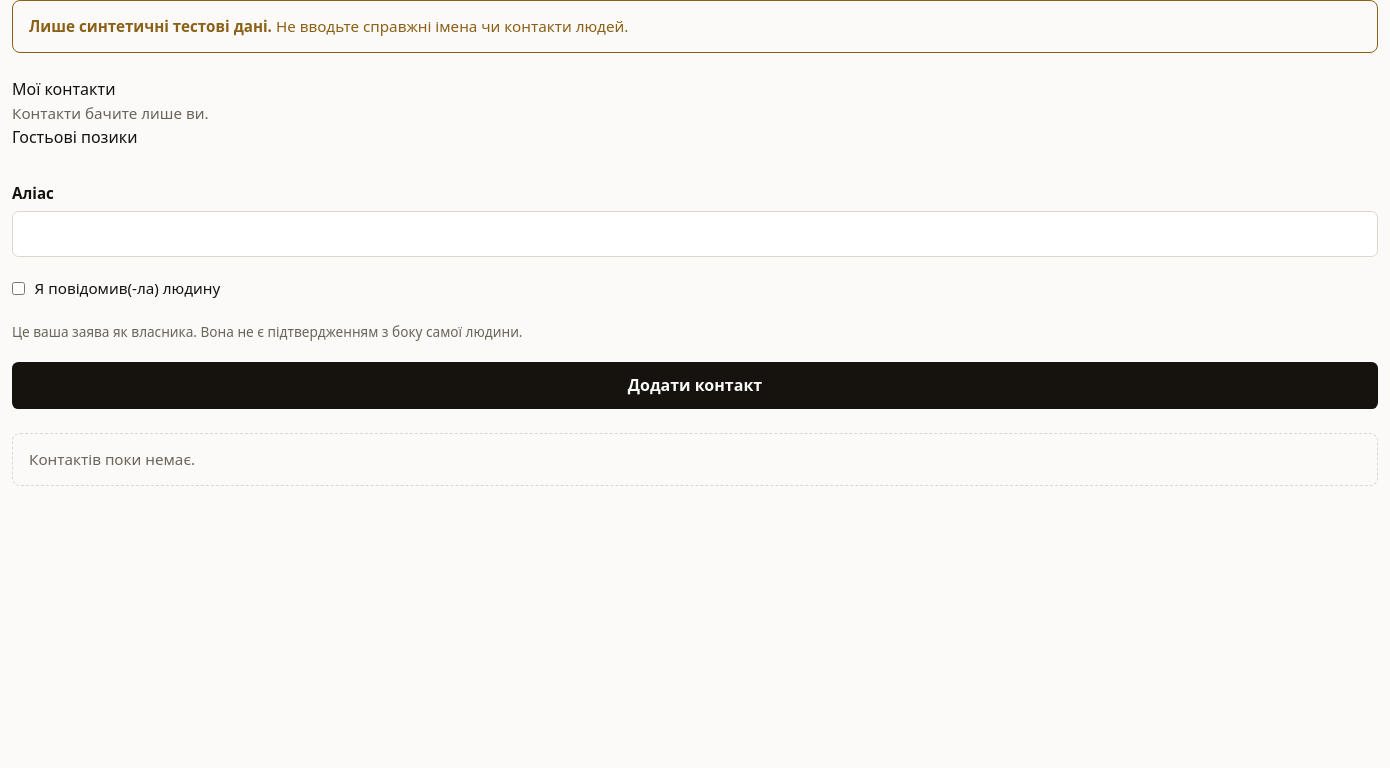
Scenario: ContactsScreen › shows a server error on create and keeps the form
Check: the text "Контактів поки немає." is shown, box [12,433,1378,486]
Type "Гість" into the field labelled "Аліас".
click(695, 234); type("Гість")  # box [12,211,1378,257]
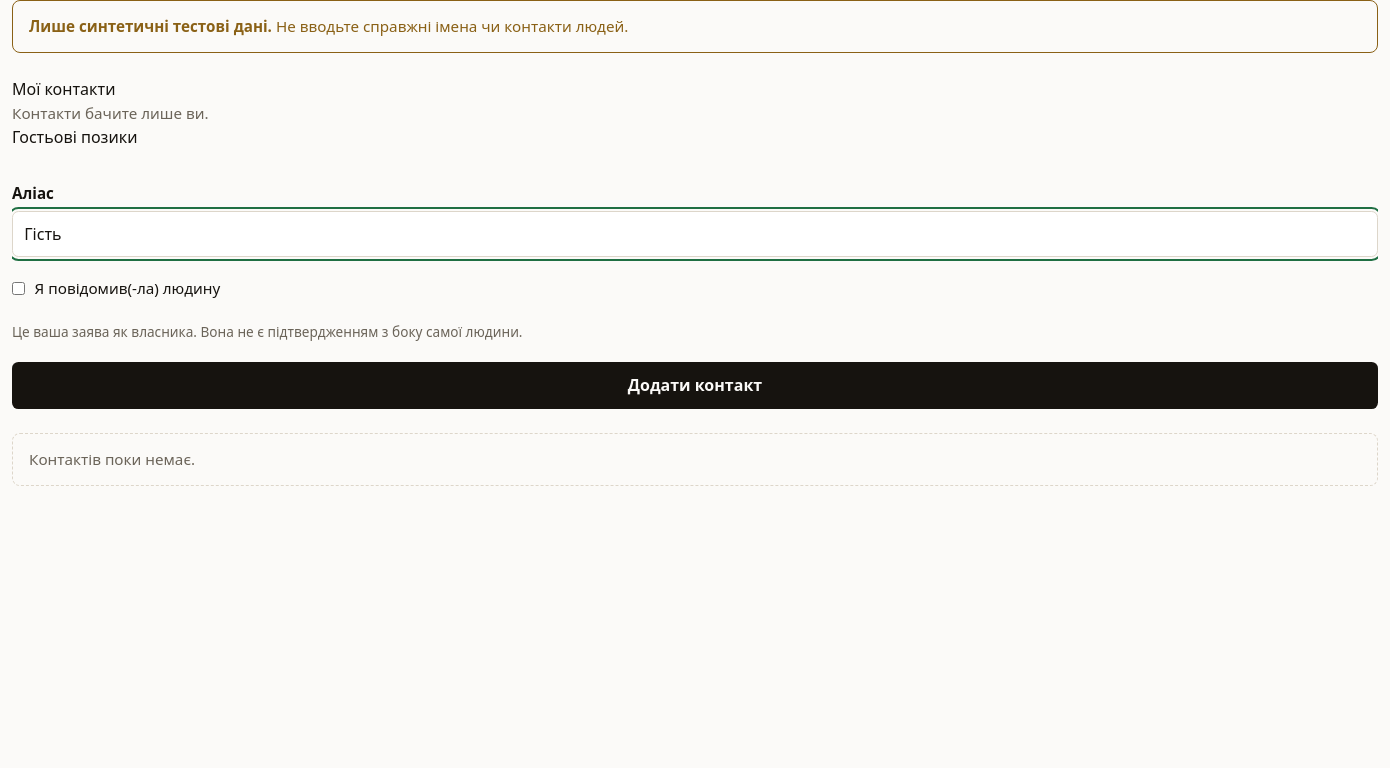
Click the checkbox labelled "Я повідомив(-ла) людину".
click(18, 288)  # box [12,282,25,295]
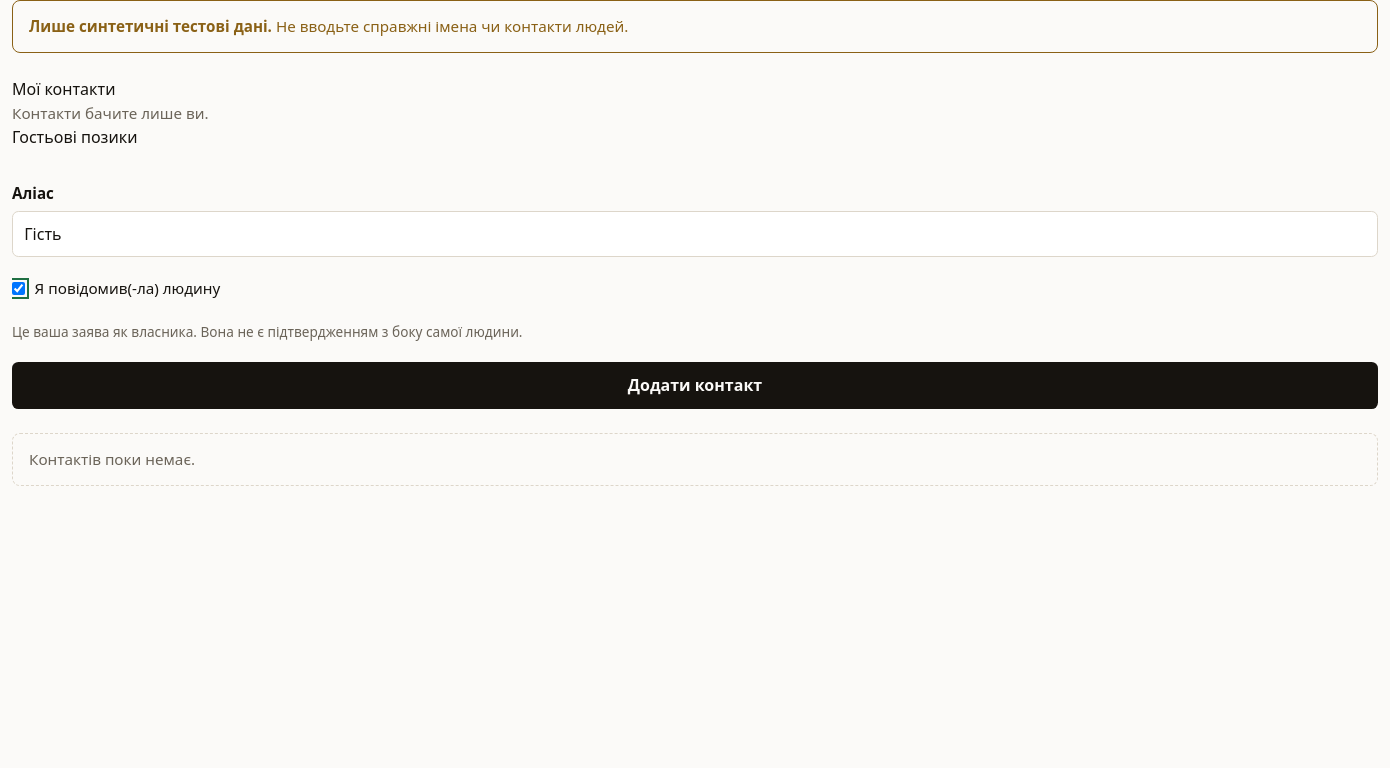
Click the button "Додати контакт".
click(695, 386)  # box [12,362,1378,409]
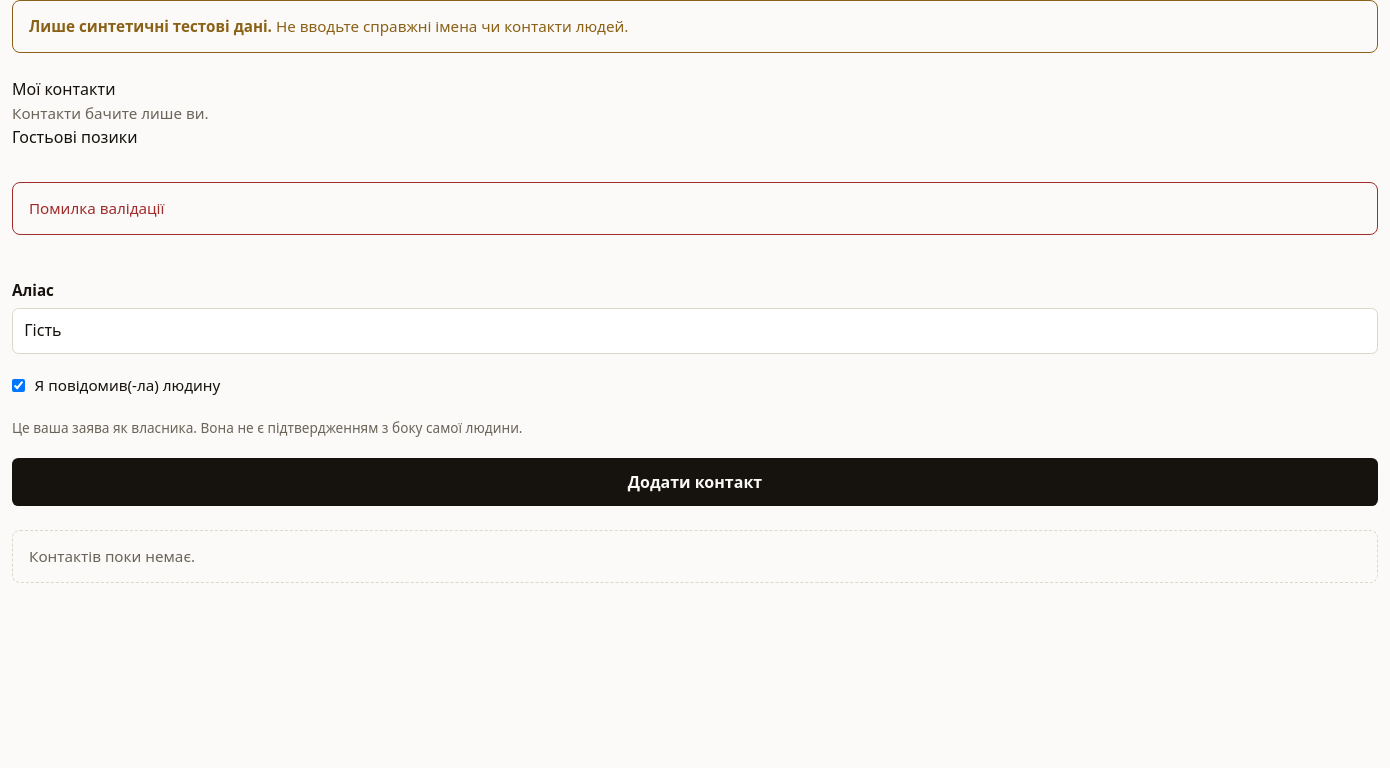
Check: the message reads "Помилка валідації", box [29,198,164,218]
